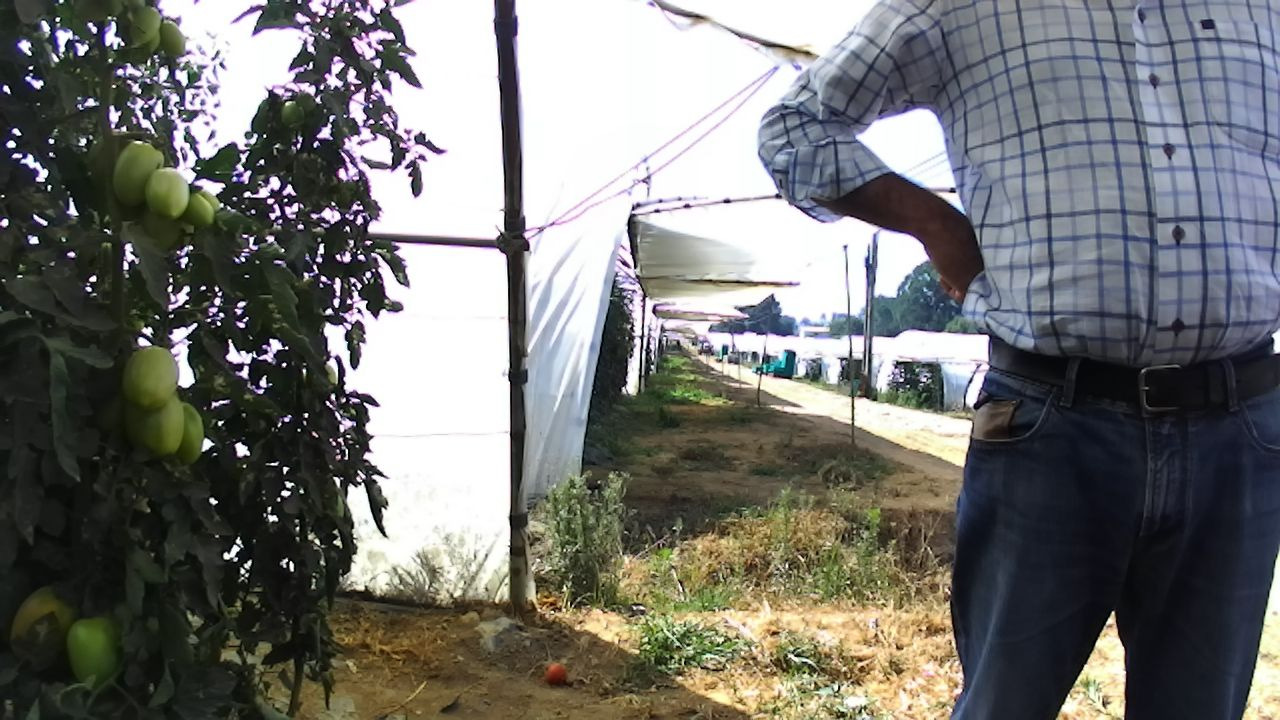tomato: (4, 579, 87, 663), (63, 613, 125, 697), (119, 386, 187, 460), (116, 344, 181, 410), (109, 140, 168, 212), (142, 166, 194, 219), (121, 1, 167, 51), (158, 17, 193, 61), (182, 190, 219, 231)
